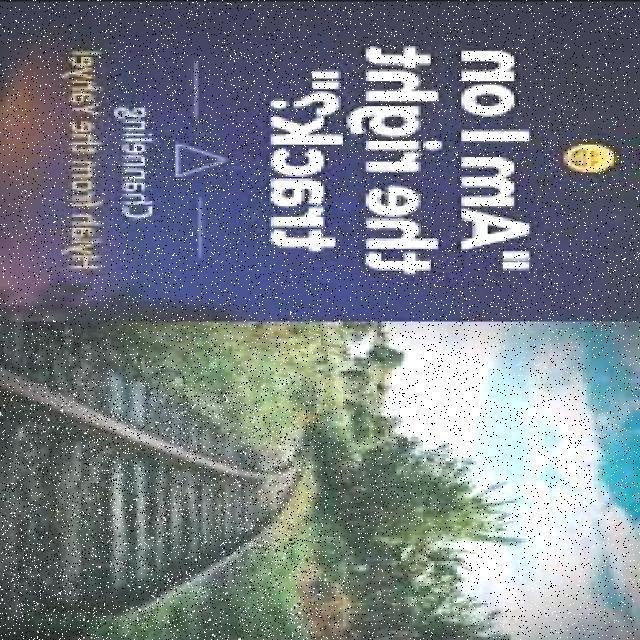rail: (1, 382, 327, 640)
